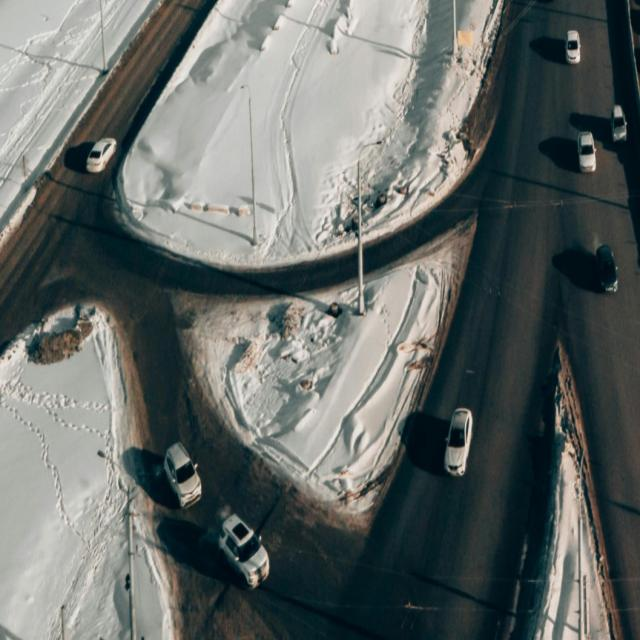car: (218, 512, 270, 589), (164, 441, 202, 509), (443, 407, 474, 478), (596, 243, 618, 296), (85, 136, 116, 173), (609, 101, 629, 145), (578, 130, 597, 175), (566, 29, 581, 63)
